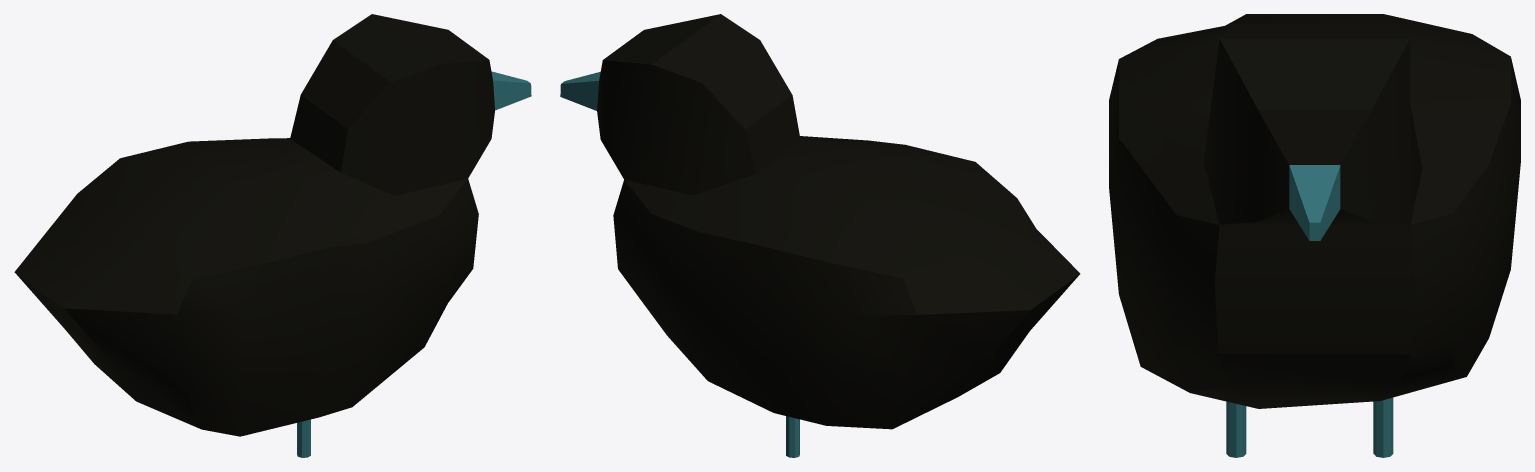
File: Bird.fbx
The picture shows the model from 3 angles, left to right: view 1: azimuth 30°, elevation 25°; view 2: azimuth 150°, elevation 25°; view 3: azimuth 270°, elevation 25°; orthographic projection. The views are drawn at different scales.
Visible parts, largest first — view 1: Cube; view 2: Cube; view 3: Cube.
Part boxes in pixels (x1,y1,x2,y2): Cube: (14, 14, 531, 457); Cube: (560, 14, 1080, 457); Cube: (1109, 14, 1520, 457).
Bounding box in the file's own units: 401 × 284 × 210.
